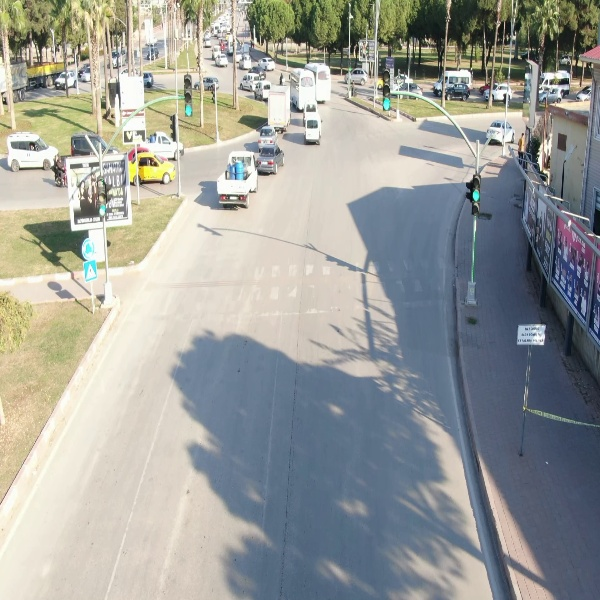car: (1, 129, 65, 173), (120, 151, 182, 191), (250, 144, 289, 179), (477, 120, 519, 147), (480, 81, 519, 105), (336, 66, 373, 91), (437, 81, 476, 103), (252, 122, 283, 149), (53, 68, 81, 93), (251, 52, 281, 75), (211, 51, 235, 70)
